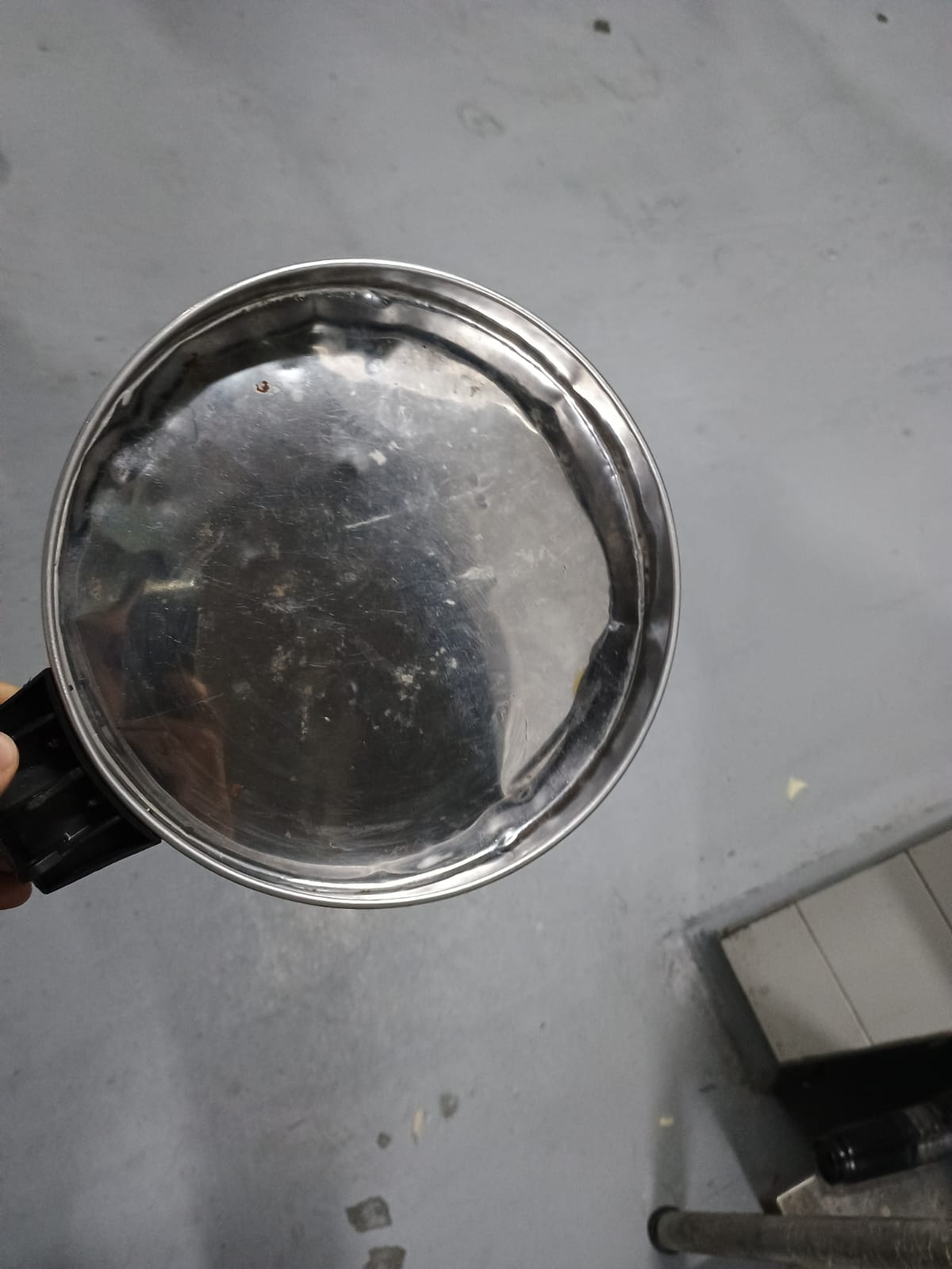Metal: (44, 253, 682, 908)
